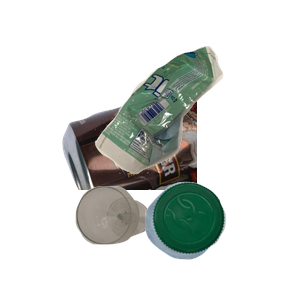glass: (73, 184, 214, 300)
metal: (60, 79, 300, 259)
plastic: (142, 179, 300, 300)
trash: (92, 44, 300, 211)
